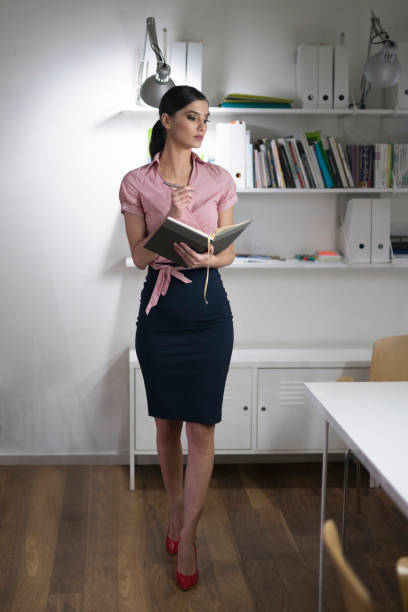F_tailored skirt: (129, 259, 241, 430)
